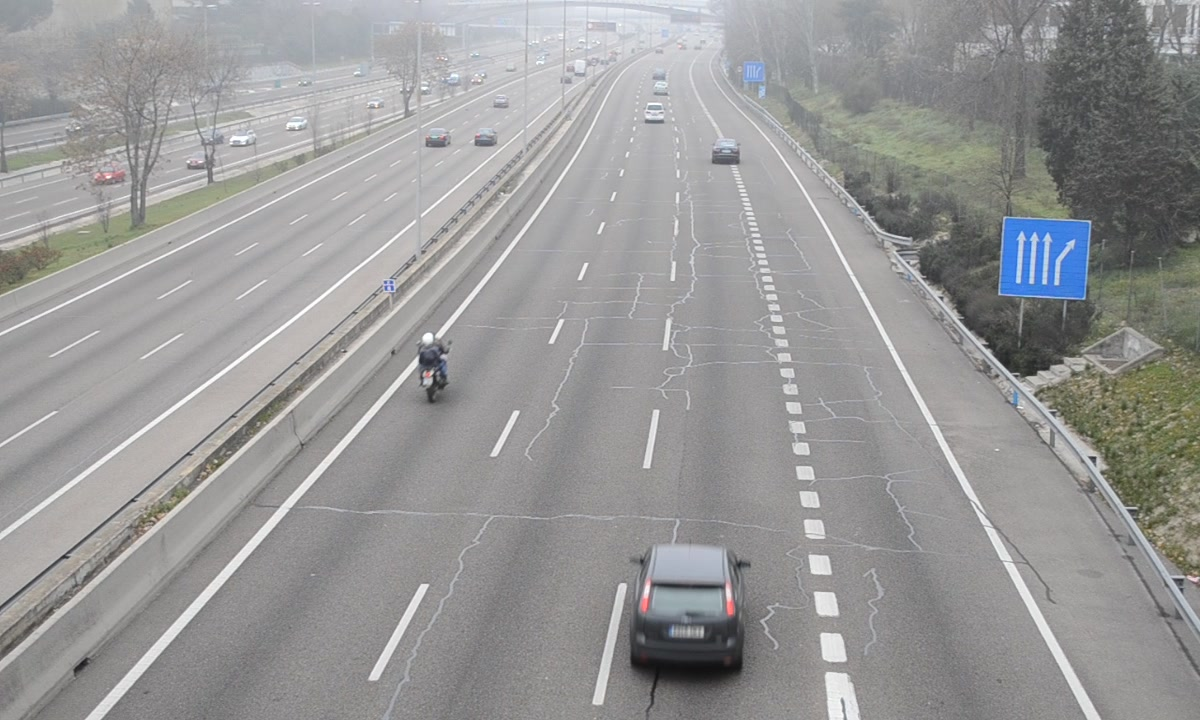car: (627, 545, 743, 671), (711, 139, 739, 164), (644, 103, 666, 125)
motorcycle: (415, 329, 451, 405)
